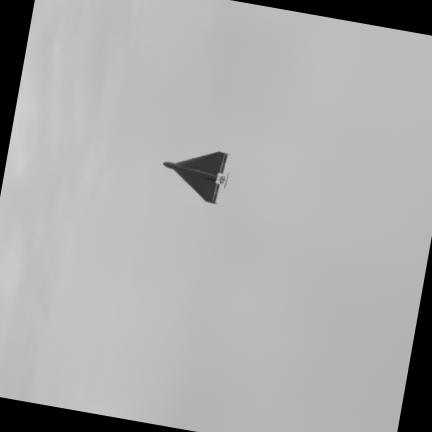Shahed: (161, 149, 232, 205)
